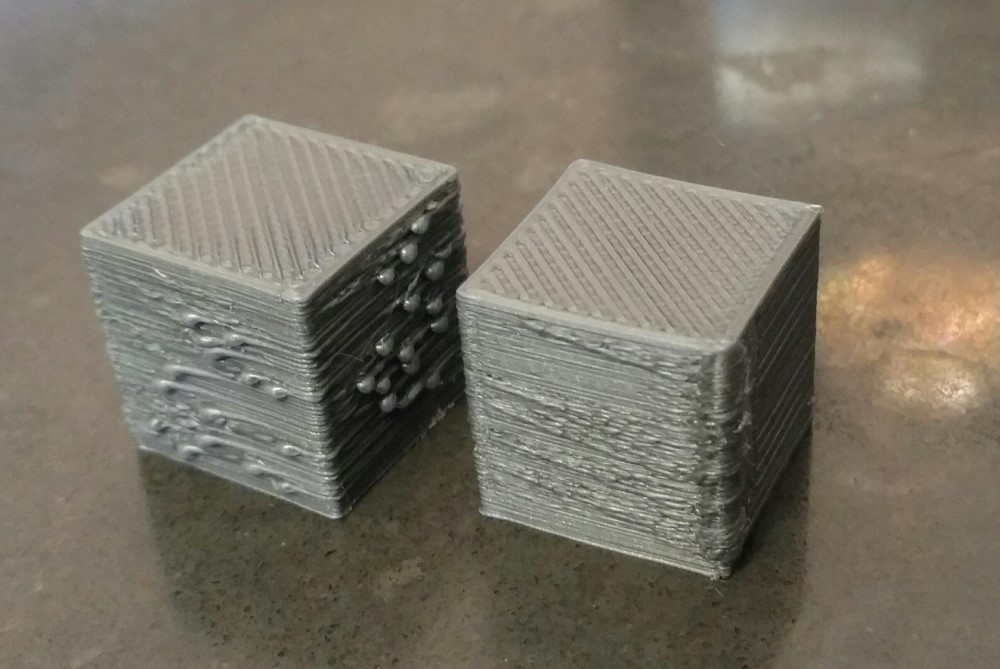blob: (464, 302, 715, 553), (91, 262, 331, 508), (362, 239, 426, 289), (375, 377, 432, 414), (421, 302, 448, 338), (344, 369, 376, 396), (390, 299, 435, 318), (371, 330, 400, 357)
